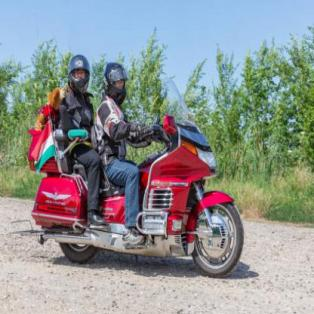Motocicleta: (27, 100, 246, 276)
